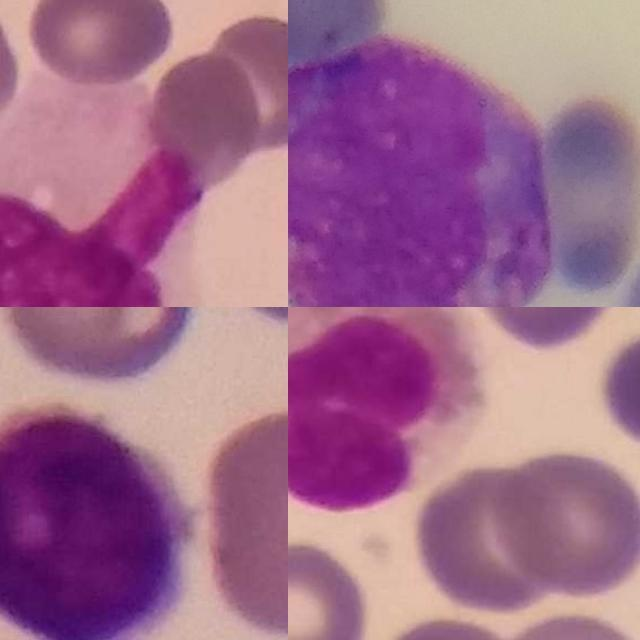Basophil: (288, 37, 557, 307)
Eosinophil: (288, 307, 492, 516)
Lymphocyte: (0, 403, 191, 640)
Monocyte: (0, 98, 207, 307)
